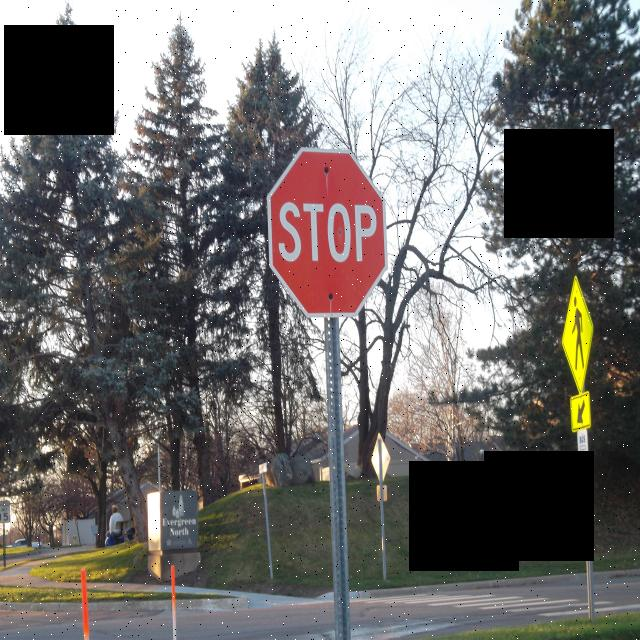stop: (264, 140, 388, 332)
warning: (554, 273, 602, 395), (569, 390, 592, 435)
